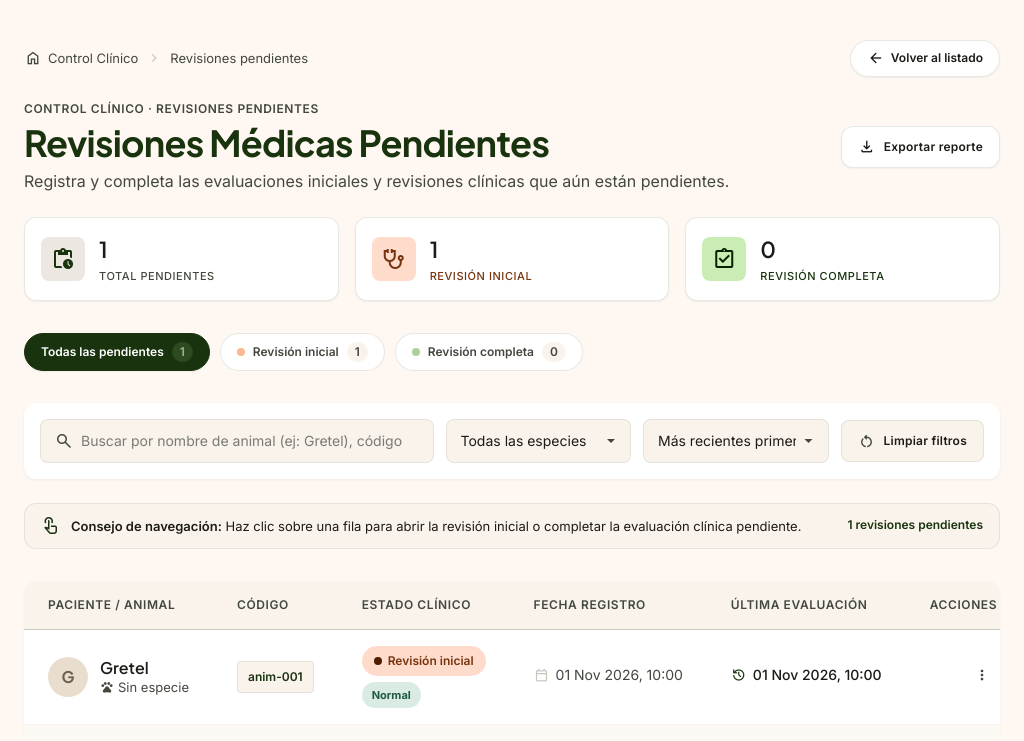
Test: RegistroMedicoPage › muestra la revisión inicial en un modal al abrir un registro provisional
Click the button with aria-label "Ver ficha médica de Gretel anim-001".
click(68, 677)  # box x1=24 y1=629 x2=1021 y2=724
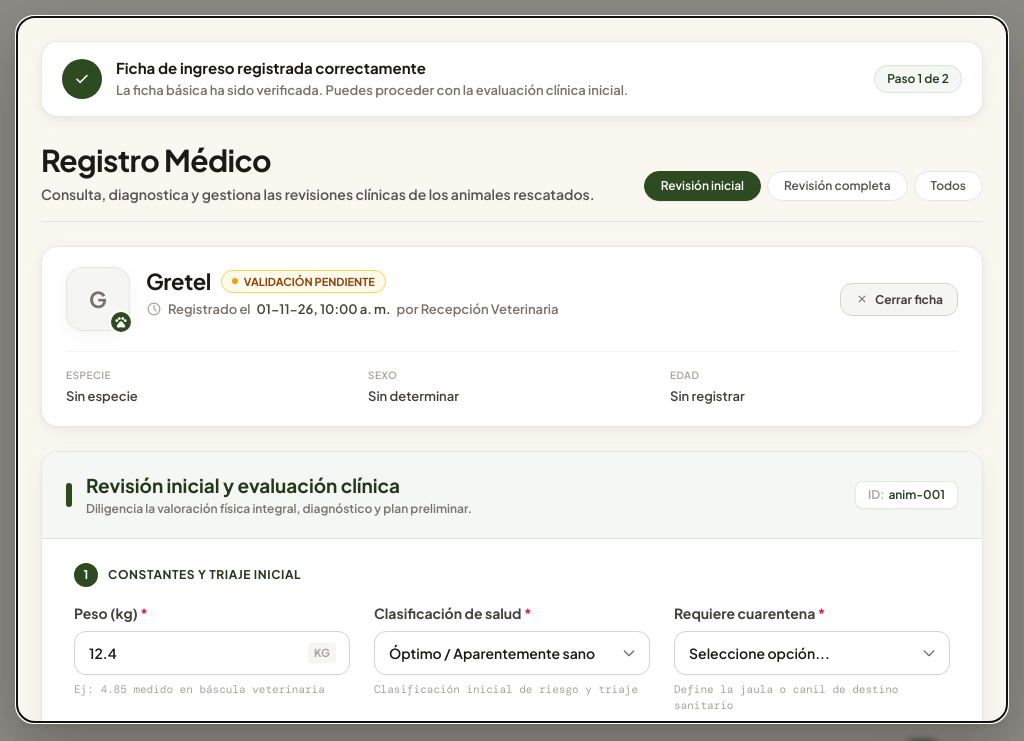
Expected: the heading "Revisiones Médicas Pendientes" is shown, x1=24 y1=120 x2=549 y2=165
Result: the heading "Ficha de ingreso registrada correctamente" is shown at x1=116 y1=58 x2=426 y2=77
Result: the text "Paso 1 de 2" is shown at x1=874 y1=65 x2=962 y2=93
